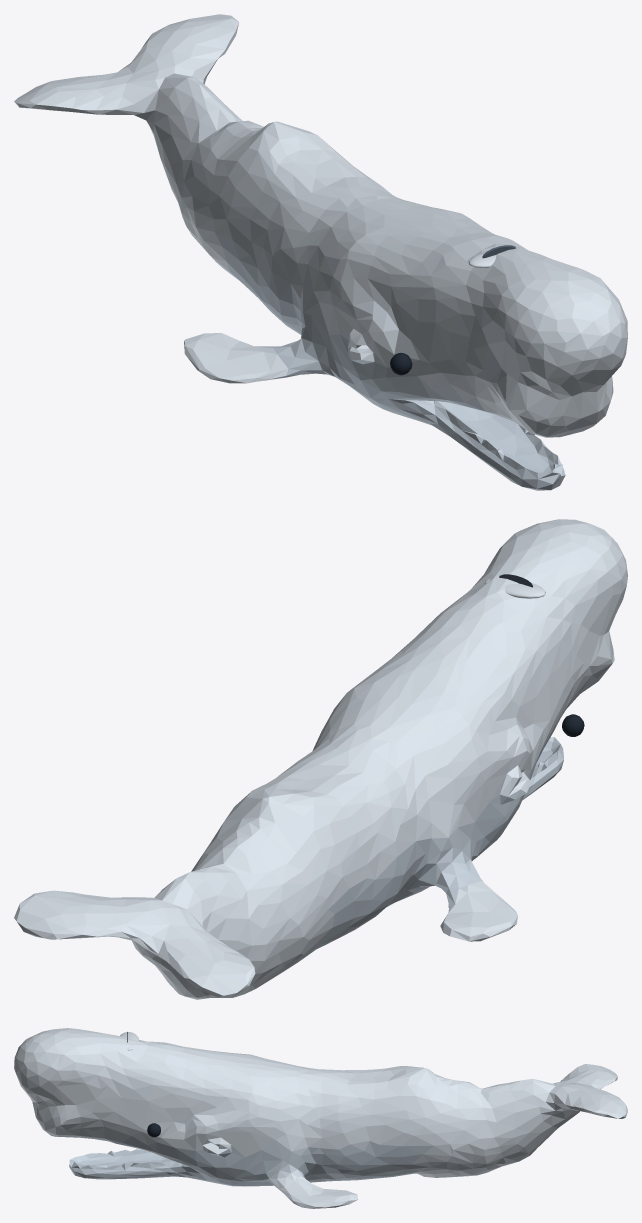
File: whale-hero.glb
3 renders of one model, top to bottom at view 1: azimuth 30°, elevation 25°; view 2: azimuth 150°, elevation 25°; view 3: azimuth 270°, elevation 25°, orthographic. The views are drawn at different scales.
Visible parts, largest first — view 1: body, belly, tail_stem, left_fluke, right_fluke, left_pectoral; view 2: body, tail_stem, belly, right_fluke, left_fluke, left_pectoral; view 3: body, belly, tail_stem, right_fluke, right_pectoral, left_fluke.
Boxes of the visible parts, x1,y1,x2,y2 form: body: (215,122,627,437); belly: (215,232,582,490); tail_stem: (161,77,299,279); left_fluke: (14,50,182,165); right_fluke: (128,14,239,97); left_pectoral: (184,333,288,383); body: (235,519,627,908); tail_stem: (185,790,342,999); belly: (317,722,563,948); right_fluke: (14,872,204,997); left_fluke: (126,891,255,997); left_pectoral: (440,881,517,941); body: (14,1028,433,1156); belly: (52,1134,433,1187); tail_stem: (410,1068,539,1177); right_fluke: (515,1078,627,1155); right_pectoral: (269,1170,357,1208); left_fluke: (553,1064,617,1089).
Size of the model in its own units: 4.76 by 3.57 by 13.48.
